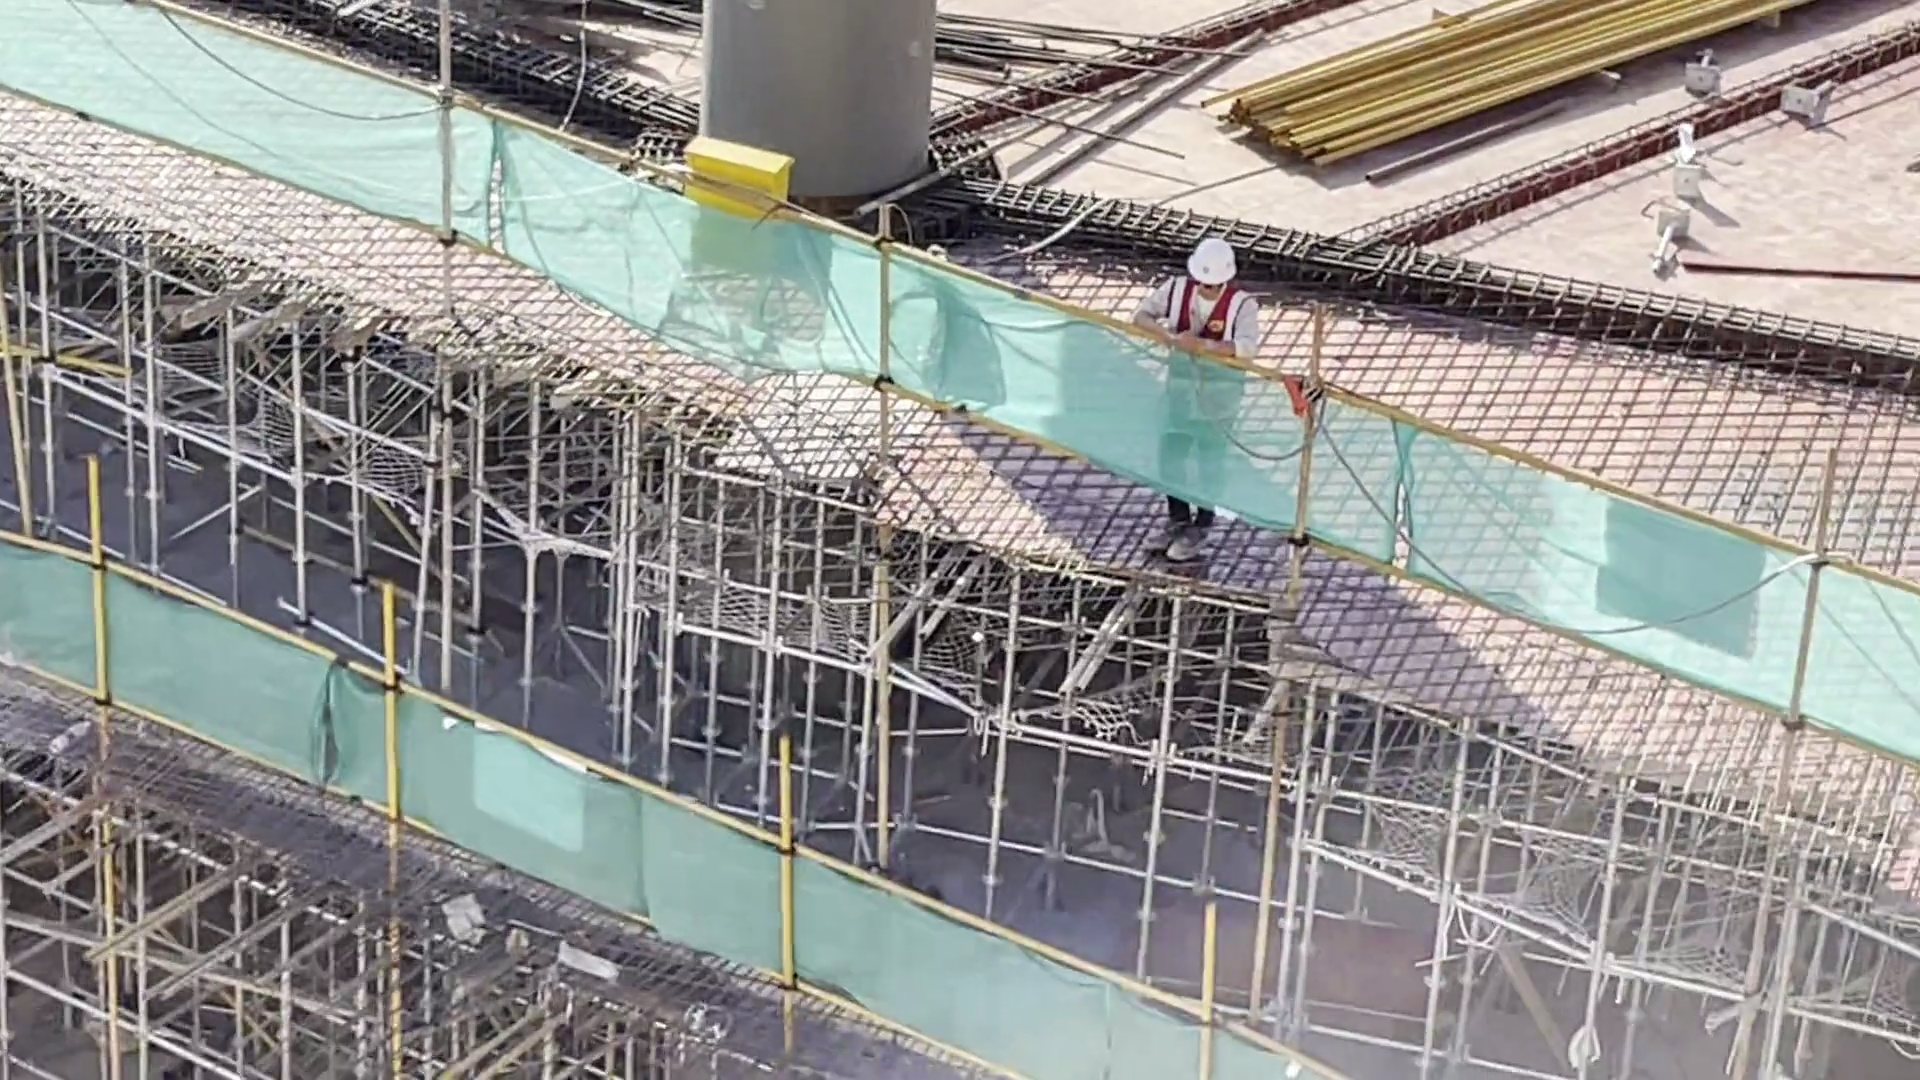ebox: (666, 128, 786, 283)
helmet: (1176, 238, 1237, 297)
person: (1141, 223, 1251, 574)
vest: (1157, 278, 1245, 412)
